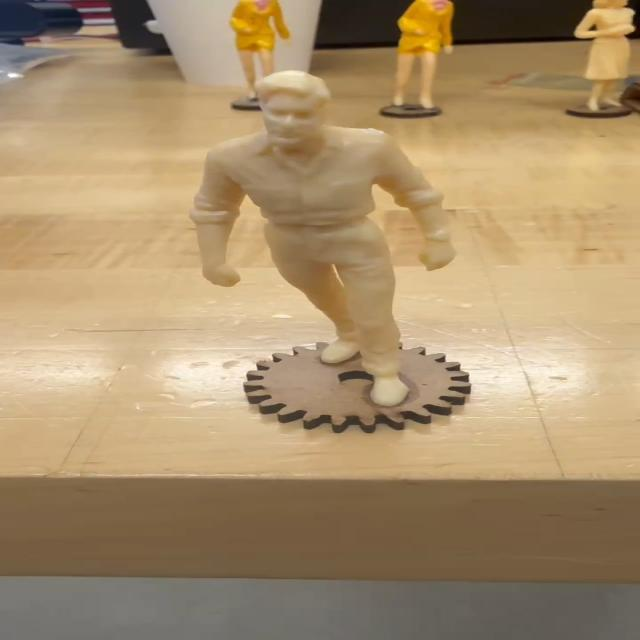Unauthorized: (180, 70, 483, 417)
